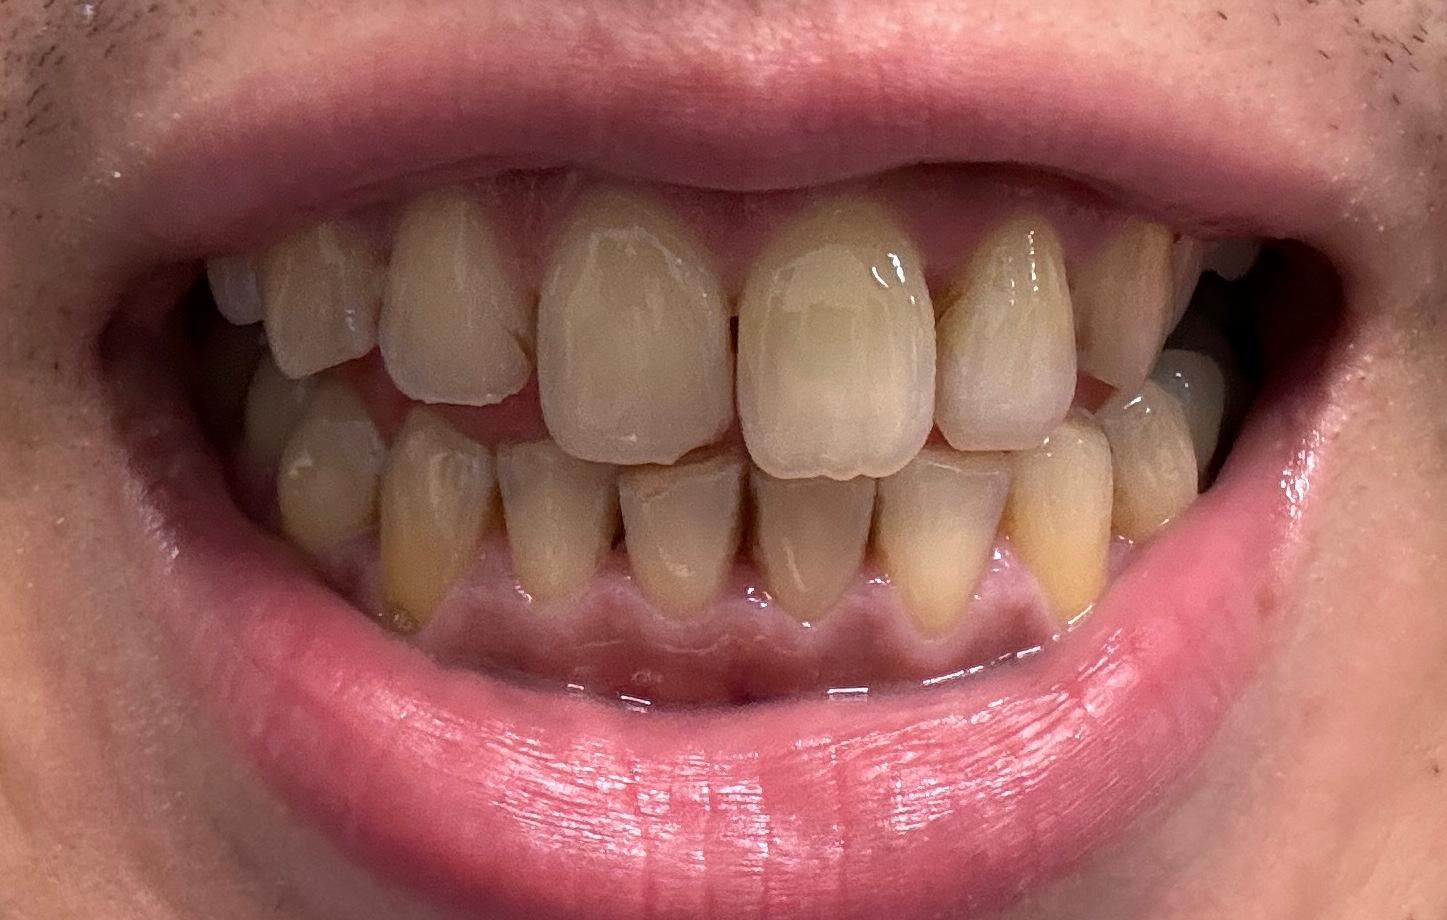teeth: (747, 207, 930, 473), (548, 190, 731, 457), (944, 222, 1070, 442), (388, 189, 509, 391), (379, 408, 487, 627), (891, 459, 1010, 619), (1015, 418, 1103, 620), (268, 222, 377, 370), (625, 461, 735, 607), (275, 387, 378, 539), (503, 447, 603, 591), (767, 477, 866, 616), (1114, 385, 1196, 535), (1087, 222, 1163, 377)
